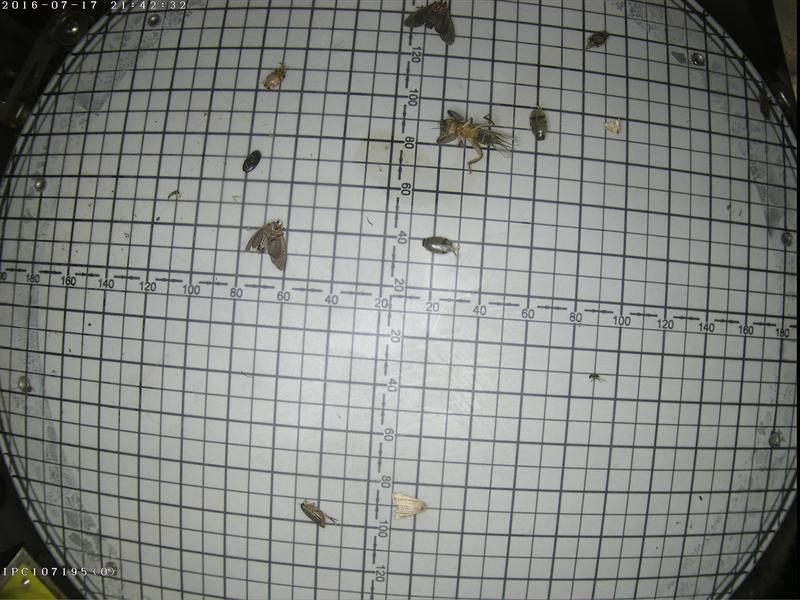Gryllotalpa orientalis: (434, 108, 514, 162)
